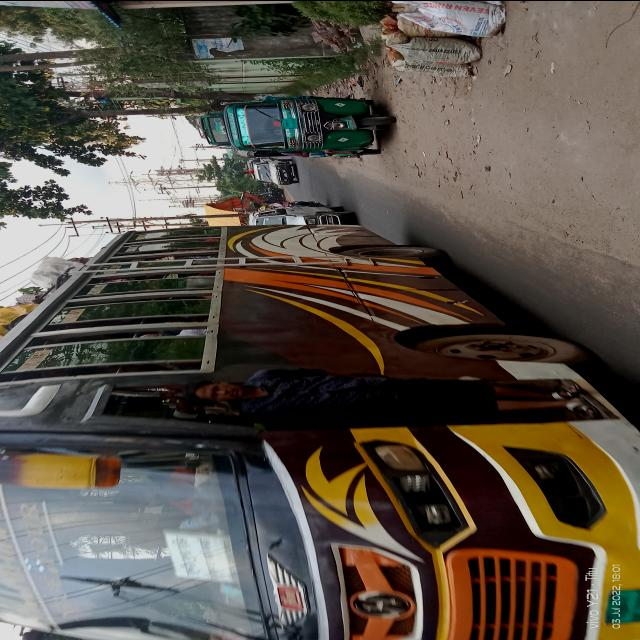bus: (1, 219, 640, 640)
